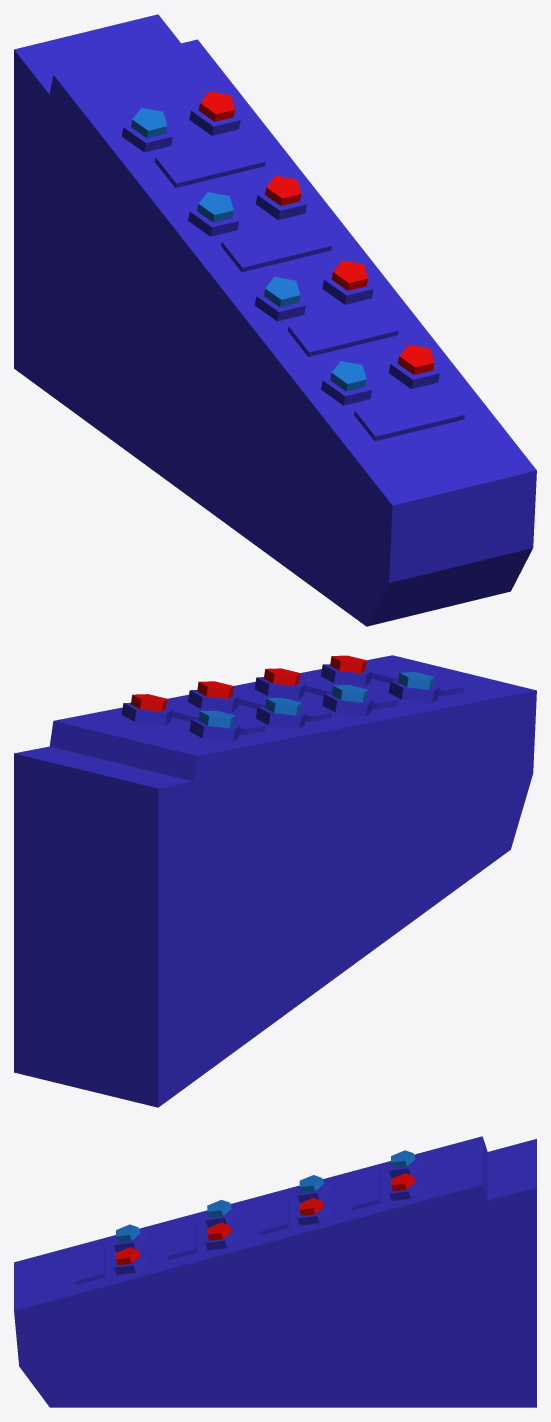
Rendered from SM_remote_control1.fbx.
The picture shows the model from 3 angles, top to bottom: view 1: azimuth 30°, elevation 25°; view 2: azimuth 150°, elevation 25°; view 3: azimuth 270°, elevation 25°; orthographic projection. The views are drawn at different scales.
Parts seen in each view (by area): view 1: remote_control1; view 2: remote_control1; view 3: remote_control1.
Boxes of the visible parts, x1=… form: remote_control1: x1=14, y1=14, x2=536, y2=626; remote_control1: x1=14, y1=655, x2=536, y2=1107; remote_control1: x1=14, y1=1136, x2=536, y2=1407.
Size of the model in its own units: 10 by 21.38 by 45.45.
